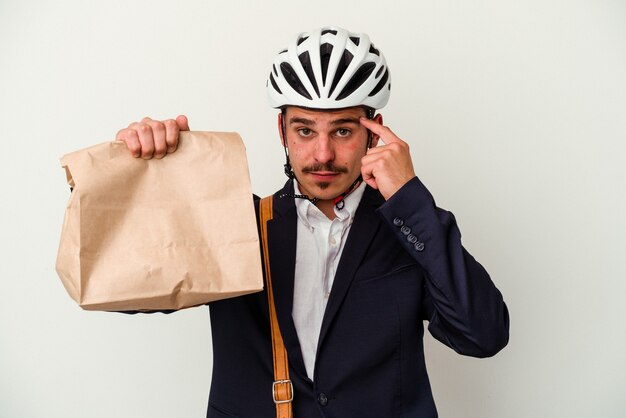helmet: (265, 27, 392, 199)
